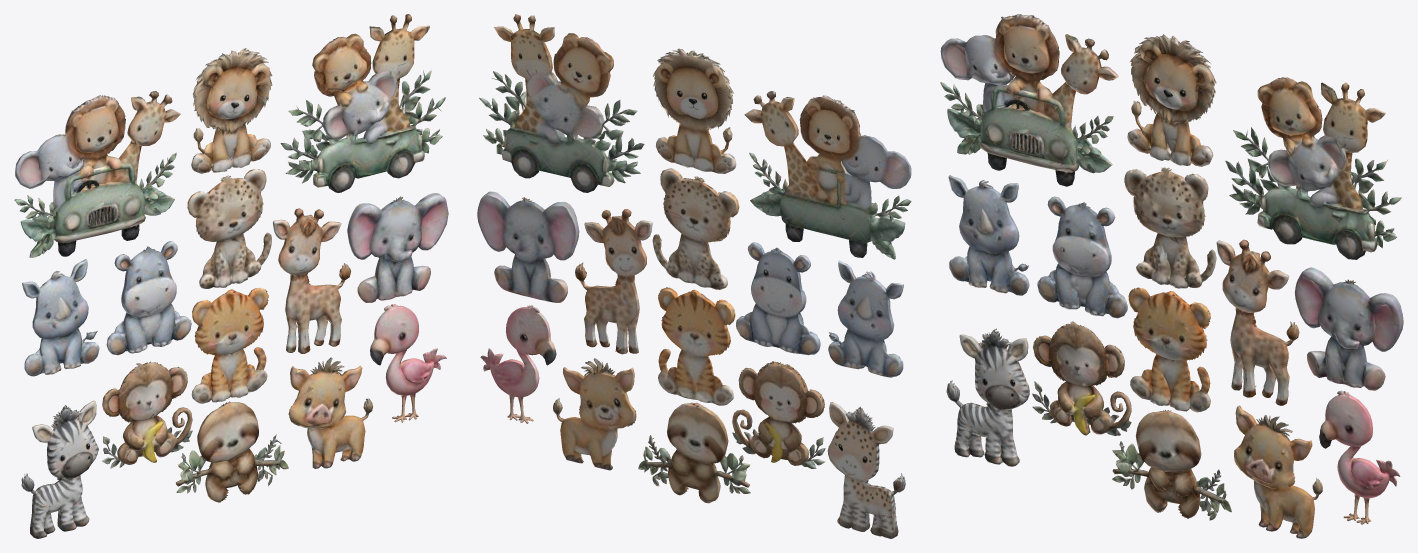
3 views of the same model, side by side, from view 1: azimuth 30°, elevation 25°; view 2: azimuth 150°, elevation 25°; view 3: azimuth 330°, elevation 25° (orthographic). The views are drawn at different scales.
Parts seen in each view (by area): view 1: Mesh 1, Mesh 12, Mesh 9, Mesh 14, Mesh 10, Mesh 8, Mesh 5, Mesh 7, Mesh 11, Mesh 2, Mesh 6, Mesh 13 (+2 smaller); view 2: Mesh 12, Mesh 1, Mesh 14, Mesh 9, Mesh 10, Mesh 5, Mesh 7, Mesh 8, Mesh 11, Mesh 2, Mesh 6, Mesh 13 (+2 smaller); view 3: Mesh 12, Mesh 1, Mesh 9, Mesh 14, Mesh 10, Mesh 5, Mesh 7, Mesh 8, Mesh 2, Mesh 11, Mesh 6, Mesh 13 (+2 smaller).
Boxes of the visible parts, bbox=[...] form: Mesh 1: bbox=[14, 91, 180, 257]; Mesh 12: bbox=[280, 14, 445, 192]; Mesh 9: bbox=[191, 48, 272, 173]; Mesh 14: bbox=[347, 193, 448, 302]; Mesh 10: bbox=[191, 287, 268, 403]; Mesh 8: bbox=[187, 169, 271, 288]; Mesh 5: bbox=[102, 361, 192, 468]; Mesh 7: bbox=[176, 401, 288, 502]; Mesh 11: bbox=[273, 208, 350, 353]; Mesh 2: bbox=[21, 400, 98, 538]; Mesh 6: bbox=[106, 241, 191, 355]; Mesh 13: bbox=[288, 357, 372, 468]; Mesh 12: bbox=[479, 14, 644, 192]; Mesh 1: bbox=[744, 91, 911, 259]; Mesh 14: bbox=[477, 191, 579, 302]; Mesh 9: bbox=[653, 48, 736, 173]; Mesh 10: bbox=[658, 287, 735, 405]; Mesh 5: bbox=[732, 361, 825, 468]; Mesh 7: bbox=[638, 402, 750, 503]; Mesh 8: bbox=[652, 168, 739, 289]; Mesh 11: bbox=[575, 209, 652, 354]; Mesh 2: bbox=[827, 402, 905, 538]; Mesh 6: bbox=[736, 242, 820, 355]; Mesh 13: bbox=[553, 358, 636, 470]; Mesh 12: bbox=[1225, 77, 1401, 259]; Mesh 1: bbox=[940, 14, 1118, 186]; Mesh 9: bbox=[1127, 34, 1216, 166]; Mesh 14: bbox=[1294, 267, 1403, 390]; Mesh 10: bbox=[1128, 287, 1210, 412]; Mesh 5: bbox=[1032, 321, 1131, 435]; Mesh 7: bbox=[1112, 410, 1231, 520]; Mesh 8: bbox=[1124, 167, 1216, 288]; Mesh 2: bbox=[946, 328, 1029, 466]; Mesh 11: bbox=[1216, 239, 1299, 405]; Mesh 6: bbox=[1037, 196, 1127, 318]; Mesh 13: bbox=[1234, 405, 1322, 538].
Bounding box in the file's own units: 1.9 × 1.88 × 0.0887.
Materials: 14 (14 with a texture image).
